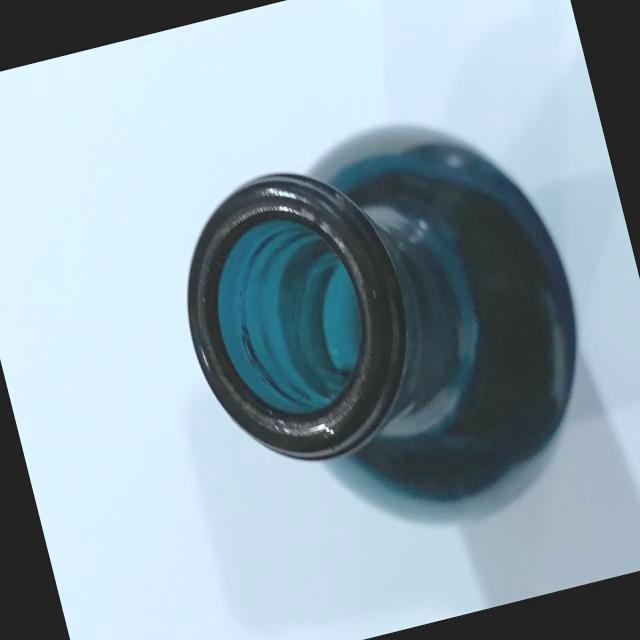glass: (138, 71, 640, 640)
